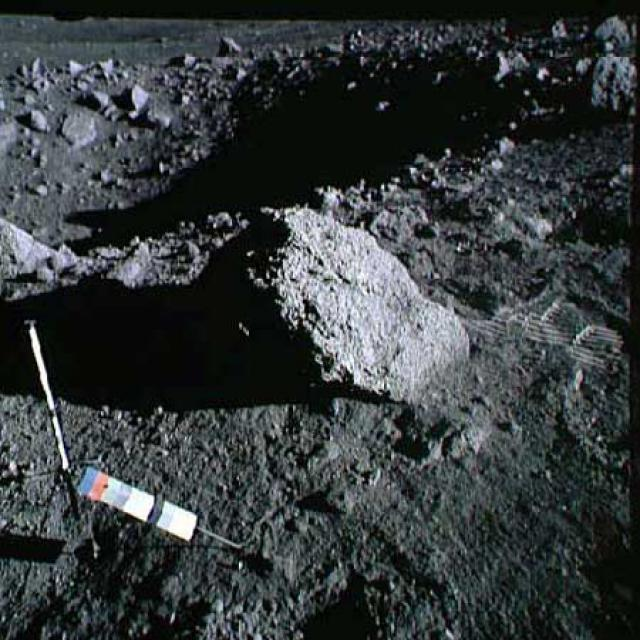artifact: (2, 308, 247, 596)
crater: (0, 51, 517, 250)
rock: (232, 198, 446, 394), (0, 218, 97, 300), (574, 54, 638, 120), (581, 12, 638, 59)
